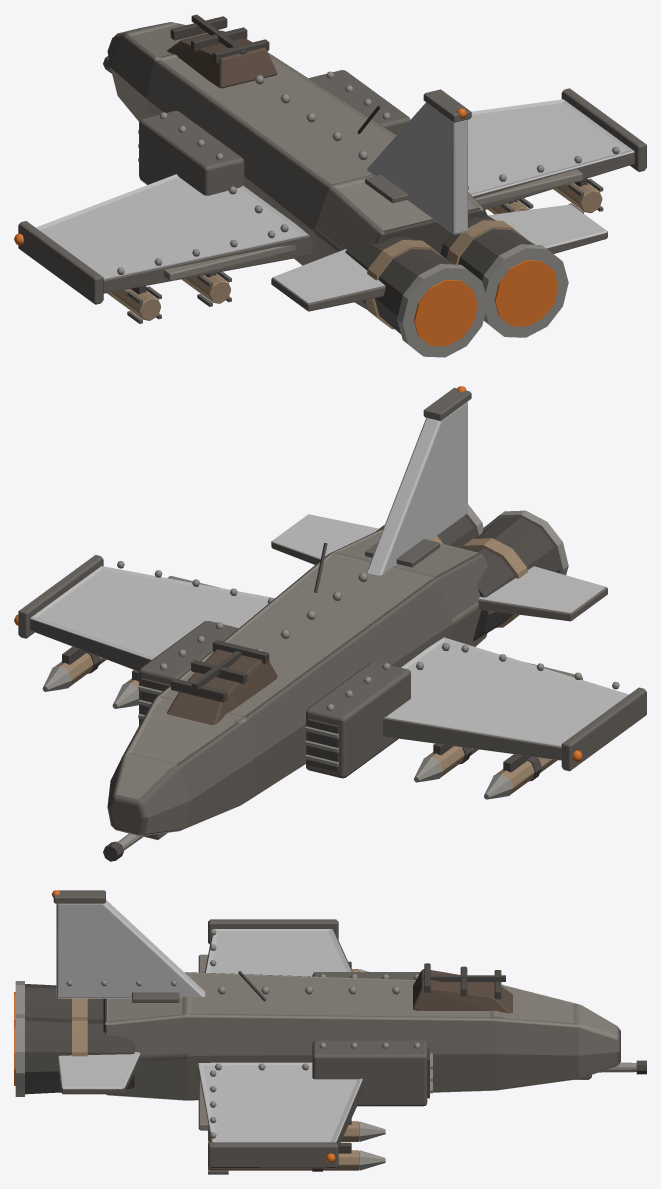
Rendered from crucible_fighter.glb.
3 views of the same model, one above another, from view 1: azimuth 30°, elevation 25°; view 2: azimuth 150°, elevation 25°; view 3: azimuth 270°, elevation 25° (orthographic). The views are drawn at different scales.
Parts seen in each view (by area): view 1: Body; view 2: Body; view 3: Body.
Boxes of the visible parts, left/top/right/bottom form: Body: left=14, top=14, right=646, bottom=357; Body: left=14, top=386, right=646, bottom=861; Body: left=14, top=890, right=646, bottom=1174.
Bounding box in the file's own units: 2.11 × 0.8861 × 2.42.
